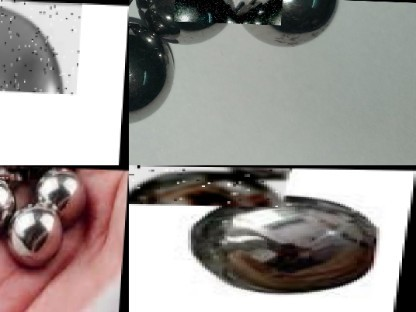ironball: (174, 192, 404, 298), (0, 0, 82, 93), (128, 165, 289, 206), (126, 16, 174, 122), (231, 0, 338, 44), (128, 0, 228, 40), (3, 201, 63, 266), (37, 166, 94, 221), (0, 181, 18, 240), (0, 165, 30, 180)
